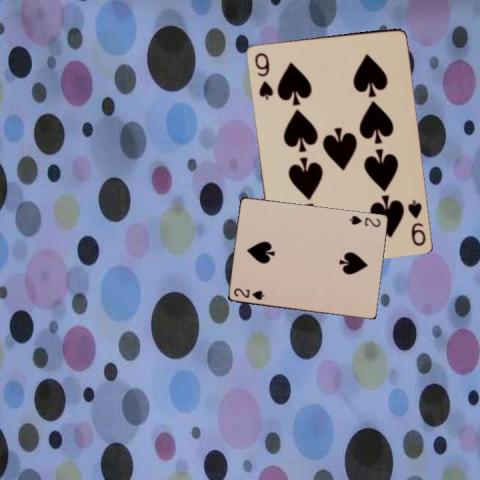2s: (231, 286, 266, 302), (347, 212, 382, 228)
9s: (251, 49, 275, 101), (404, 196, 427, 247)
